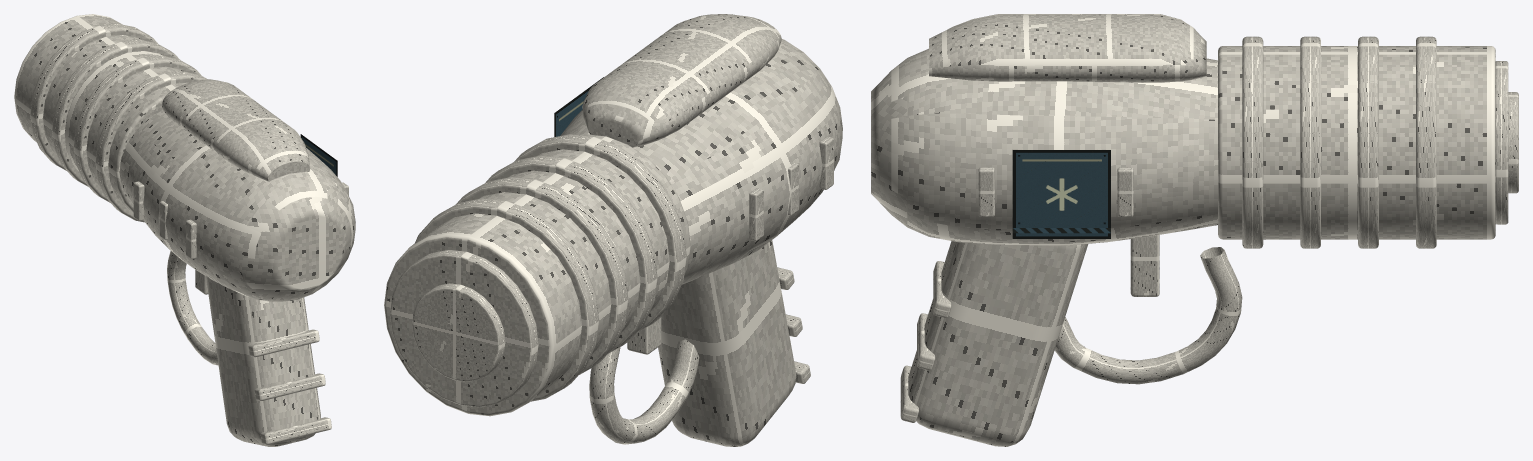
Rendered from ice.glb.
The picture shows the model from 3 angles, left to right: view 1: azimuth 30°, elevation 25°; view 2: azimuth 150°, elevation 25°; view 3: azimuth 270°, elevation 25°; orthographic projection. The views are drawn at different scales.
Visible parts, largest first — view 1: Cooling block, Angled grip.001, Pulse barrel, Reciprocating top, Cooling fin.001, Cooling fin.002, Cooling fin.003, Cooling fin, Curved trigger guard.001, Grip tread.005, Grip tread.004, Grip tread.003 (+3 smaller); view 2: Cooling block, Pulse barrel, Angled grip.001, Reciprocating top, Muzzle recess, Cold emitter, Cooling fin.003, Curved trigger guard.001, Cooling fin, Cooling fin.001, Cooling fin.002, Trigger.001 (+4 smaller); view 3: Cooling block, Pulse barrel, Angled grip.001, Reciprocating top, Specification plate.001, Curved trigger guard.001, Cooling fin, Cooling fin.001, Cooling fin.003, Cooling fin.002, Muzzle recess, Trigger.001 (+6 smaller).
Boxes of the visible parts, <box> form: Cooling block: <box>119,110,355,301</box>; Angled grip.001: <box>206,276,320,446</box>; Pulse barrel: <box>14,14,188,212</box>; Reciprocating top: <box>162,79,310,181</box>; Cooling fin.001: <box>73,55,201,202</box>; Cooling fin.002: <box>52,39,179,186</box>; Cooling fin.003: <box>30,23,157,170</box>; Cooling fin: <box>95,71,207,222</box>; Curved trigger guard.001: <box>167,251,218,365</box>; Grip tread.005: <box>248,329,319,357</box>; Grip tread.004: <box>254,373,325,400</box>; Grip tread.003: <box>260,417,331,444</box>; Cooling block: <box>560,39,842,284</box>; Pulse barrel: <box>384,134,690,416</box>; Angled grip.001: <box>658,240,796,446</box>; Reciprocating top: <box>582,14,781,147</box>; Muzzle recess: <box>390,250,538,407</box>; Cold emitter: <box>412,283,505,381</box>; Cooling fin.003: <box>415,198,598,401</box>; Curved trigger guard.001: <box>589,339,699,444</box>; Cooling fin: <box>514,134,686,332</box>; Cooling fin.001: <box>485,155,657,353</box>; Cooling fin.002: <box>456,177,628,374</box>; Trigger.001: <box>627,317,661,354</box>; Cooling block: <box>871,48,1218,245</box>; Pulse barrel: <box>1218,46,1495,239</box>; Angled grip.001: <box>908,241,1088,446</box>; Reciprocating top: <box>929,14,1206,82</box>; Specification plate.001: <box>1012,150,1110,238</box>; Curved trigger guard.001: <box>1054,247,1242,384</box>; Cooling fin: <box>1242,36,1263,248</box>; Cooling fin.001: <box>1300,36,1320,248</box>; Cooling fin.003: <box>1416,36,1436,248</box>; Cooling fin.002: <box>1358,36,1378,248</box>; Muzzle recess: <box>1495,61,1508,224</box>; Trigger.001: <box>1130,235,1159,296</box>.
Bounding box in the file's own units: 0.2112 × 0.3936 × 0.56.
Materials: 6 (6 with a texture image).
